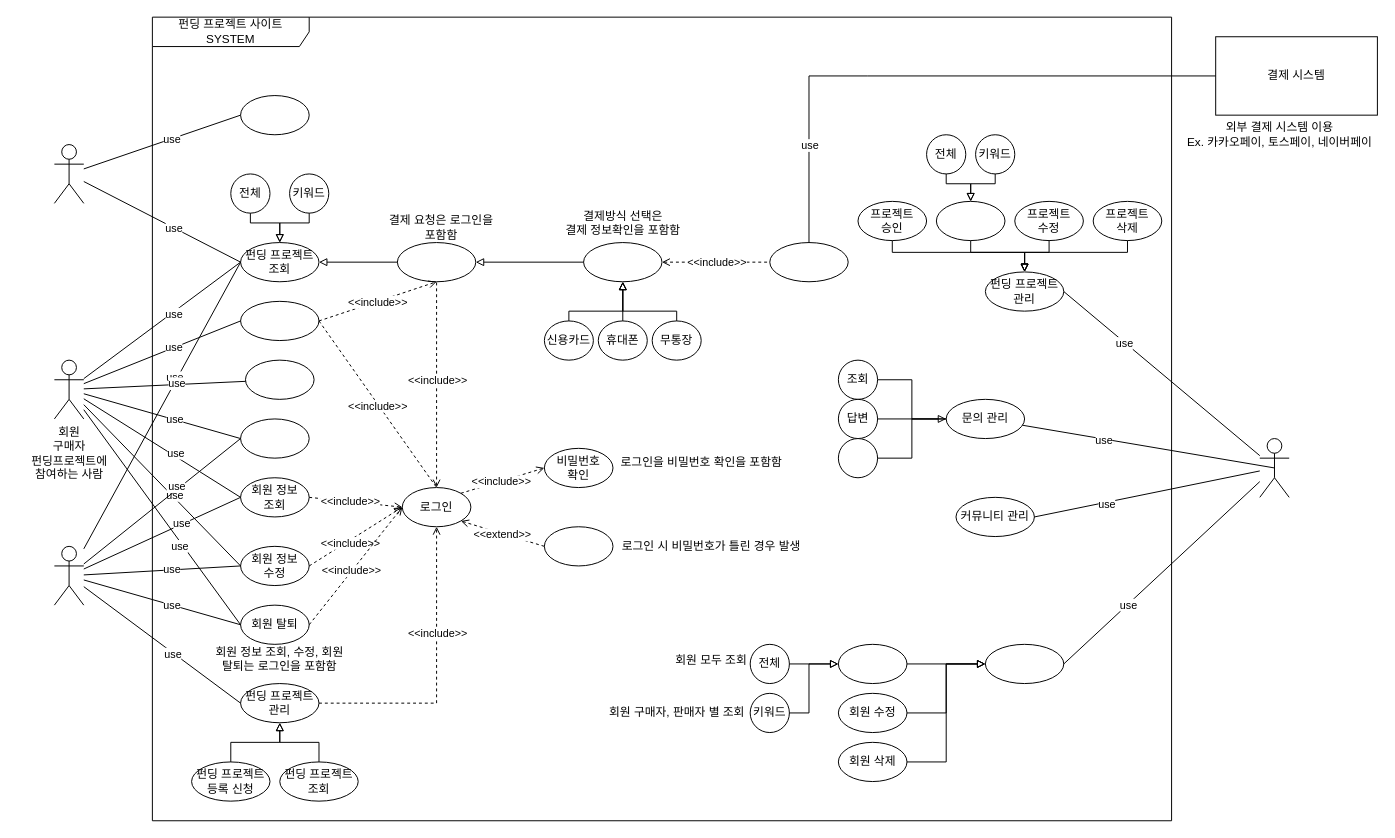
Image size: 1395x838. Some labels were removed from this diagram. Here are the shapes that lost their labels. From the top down, the centre of each, then its label:
At [274,115]: "회원가입".
At [68,173]: "비회원 회원가입을 하지 않은 웹사이트 방문자".
At [970,220]: "프로젝트 조회".
At [436,262]: "펀딩 프로젝트 결제 요청".
At [622,262]: "결제 방식 선택".
At [808,262]: "결제 정보 확인".
At [279,320]: "게시물 작성 (커뮤니티)".
At [279,379]: "문의".
At [274,438]: "프로젝트 문의 작성".
At [857,458]: "삭제".
At [1274,467]: "관리자 펀딩프로젝트 관리 및 전체 사이트 운영하는 사람".
At [578,546]: "로그인 에러 출력".
At [68,575]: "회원 판매자 펀딩프로젝트를 등록신청하는 사람".
At [872,663]: "회원 조회".
At [1024,663]: "회원 관리".
